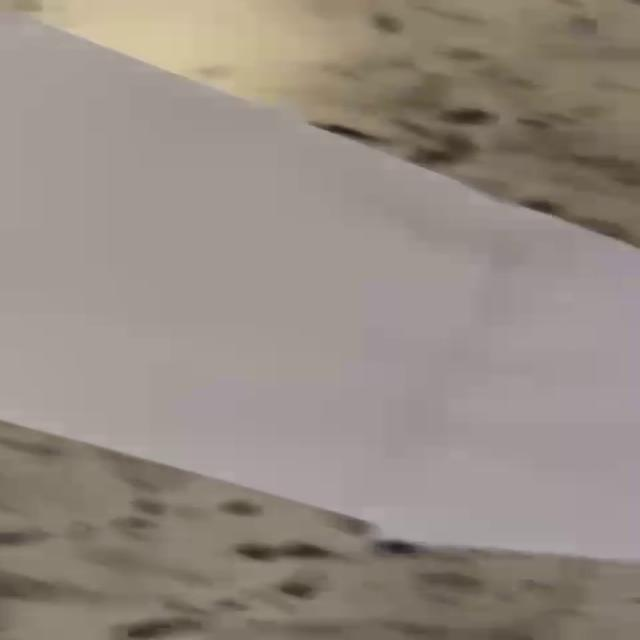road: (0, 12, 640, 564)
